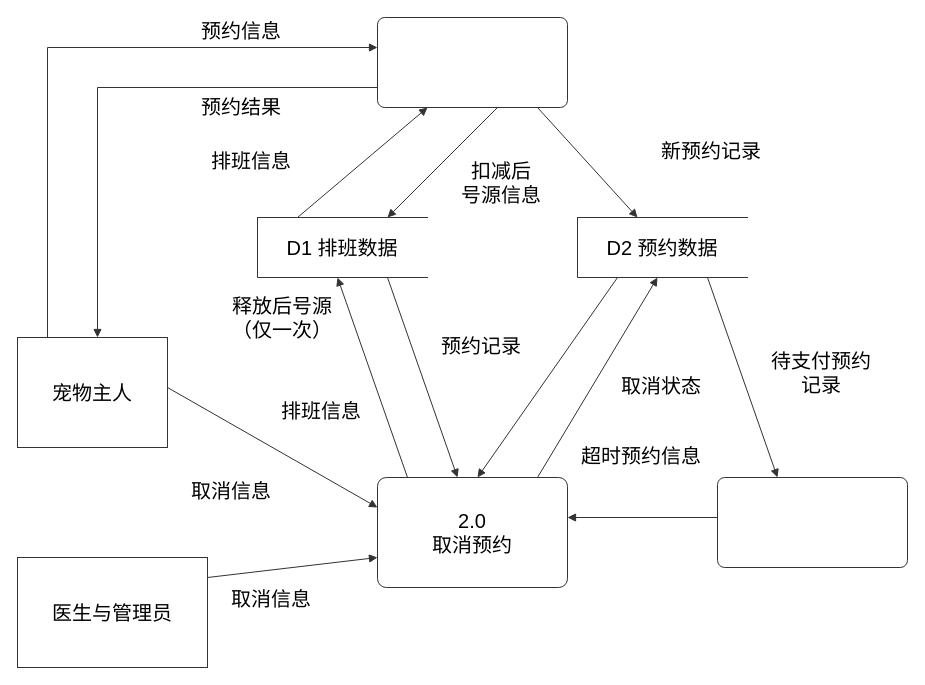
Image size: 925x685. Some labels were removed from this diagram. The box of each missing label's shape, as (x1, y1, x2, y2) in pixels:
1.0 创建预约: (376, 16, 568, 108)
3.0 筛选超时预约: (716, 476, 908, 568)
